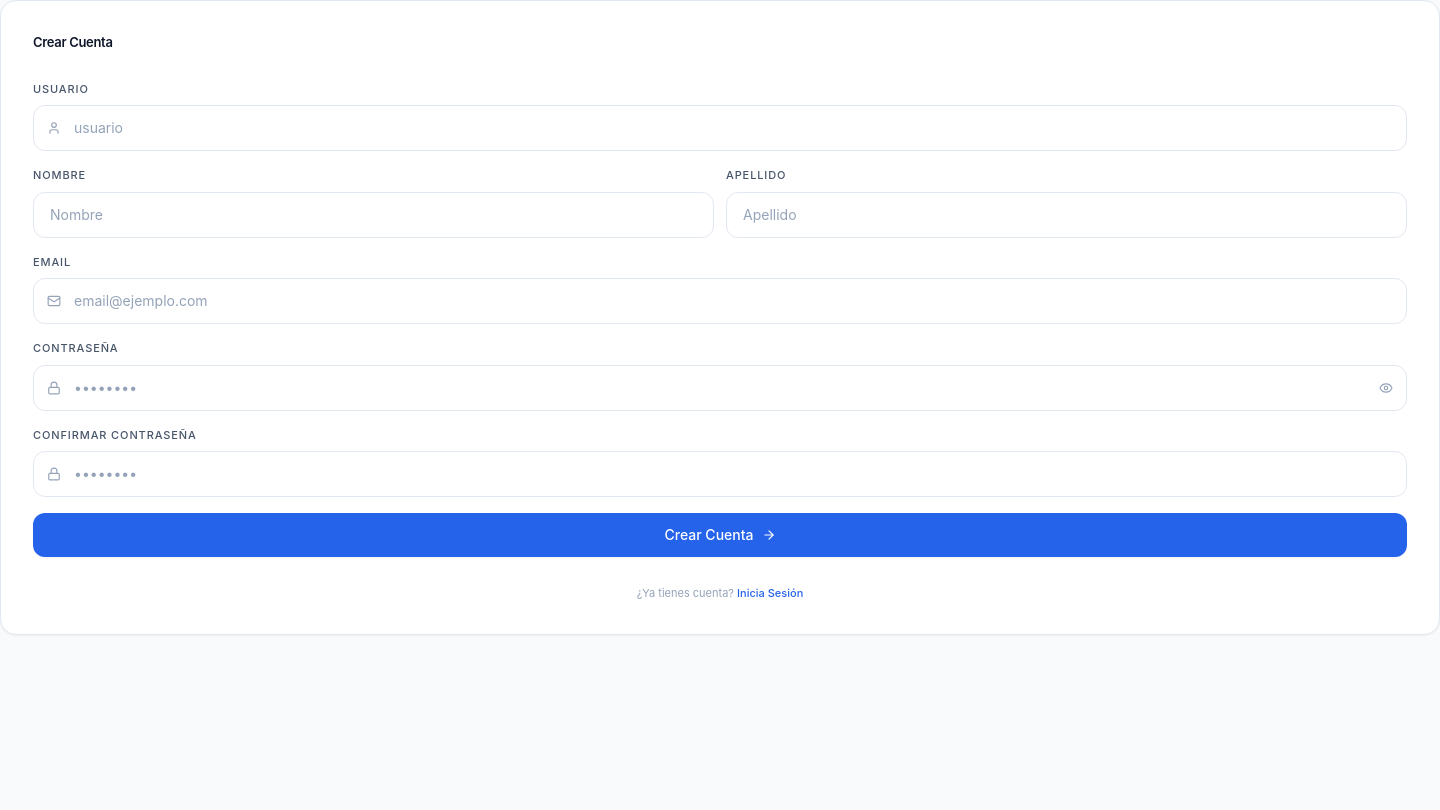
Test case: Register — limpiar Usuario tras intento fallido (fix 807b83c / QA Exp.3) › vacía el campo Usuario y conserva el resto cuando el registro falla
The width and height of the screenshot is (1440, 810).
Type "usuarioduplicado" into the field labelled "Usuario" at (720, 128), box [33,105,1407,151]
Type "Juan" into the field with placeholder "Nombre" at (374, 214), box [33,192,714,238]
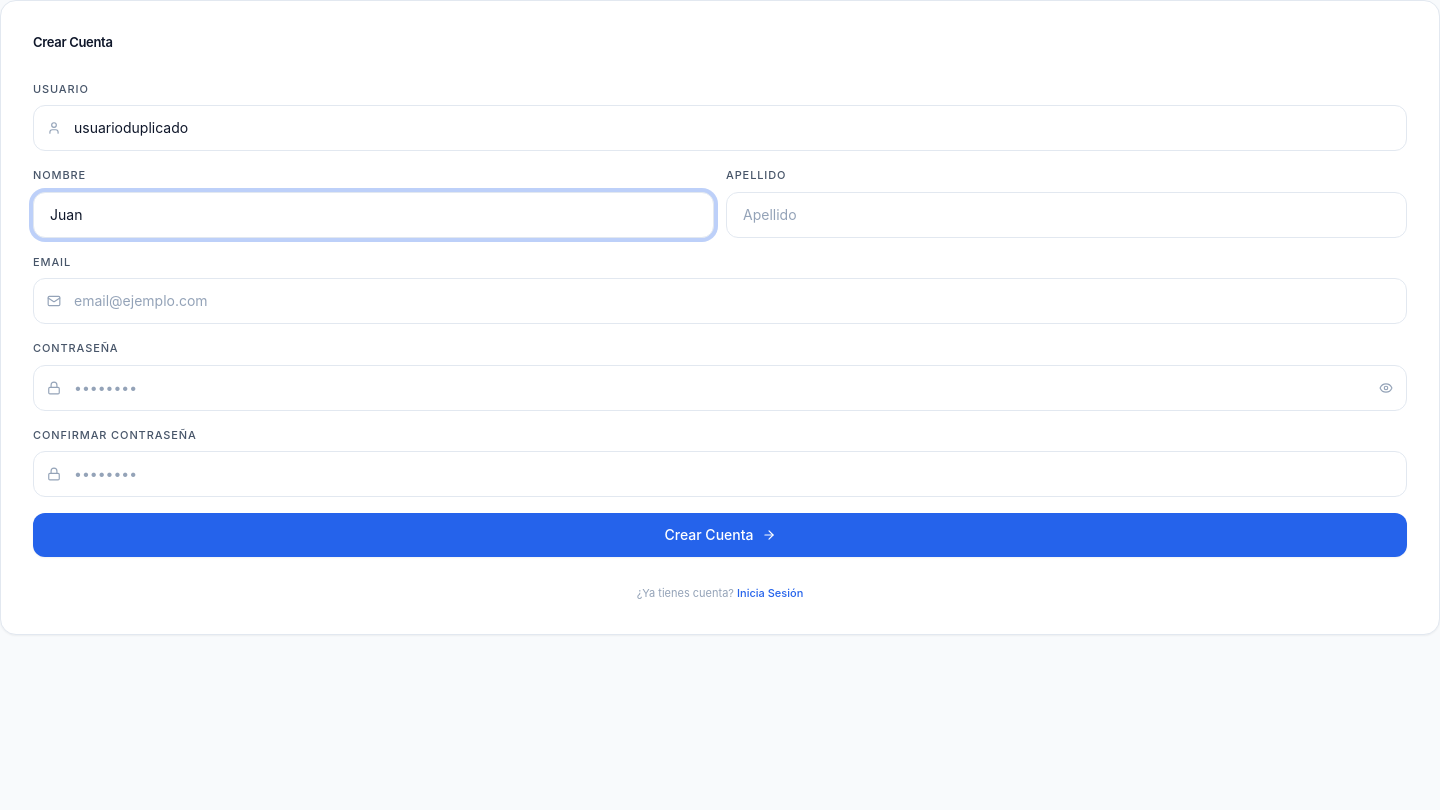
Type "Perez" into the field with placeholder "Apellido" at (1066, 214), box [726,192,1407,238]
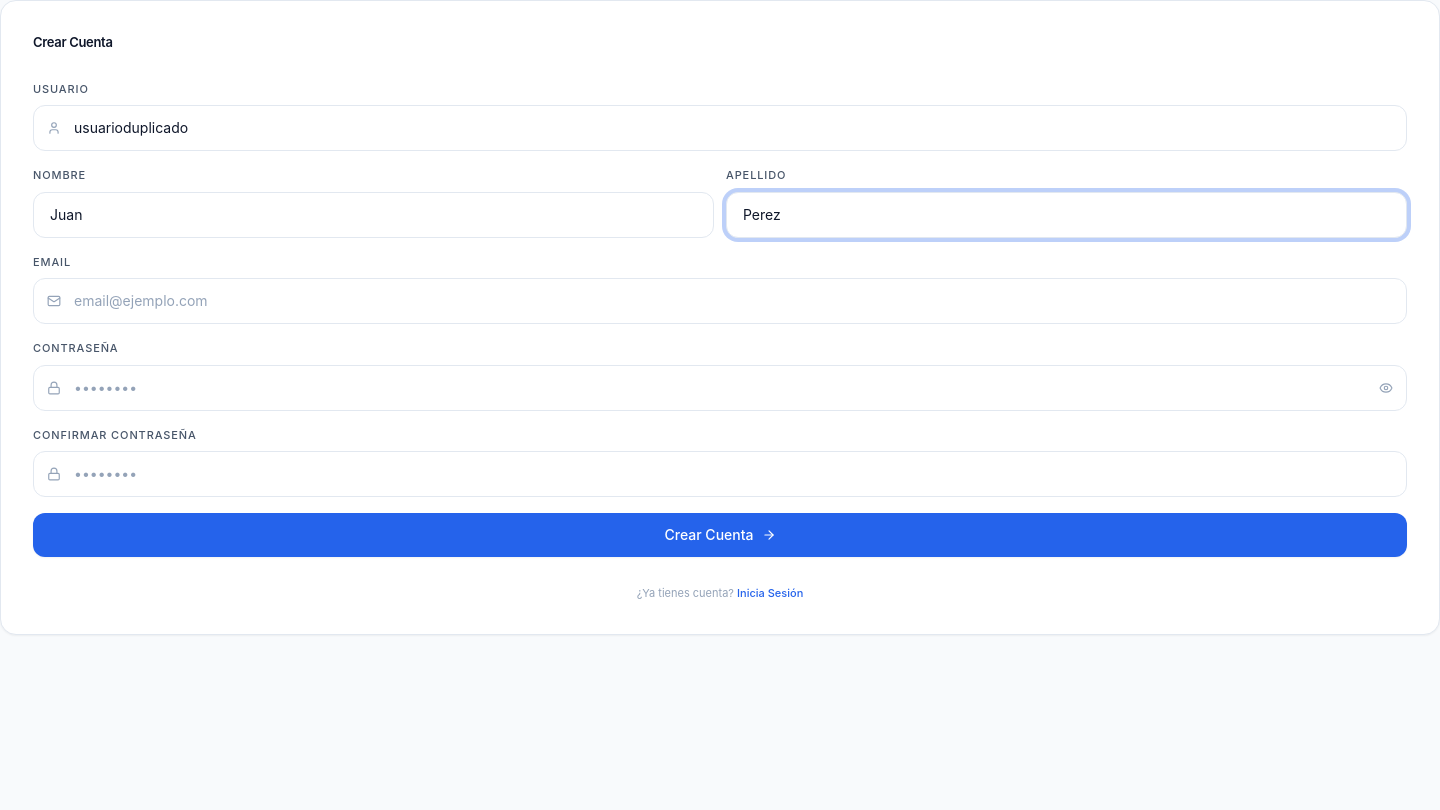
Type "dup@qa.cl" into the field labelled "Email" at (720, 301), box [33,278,1407,324]
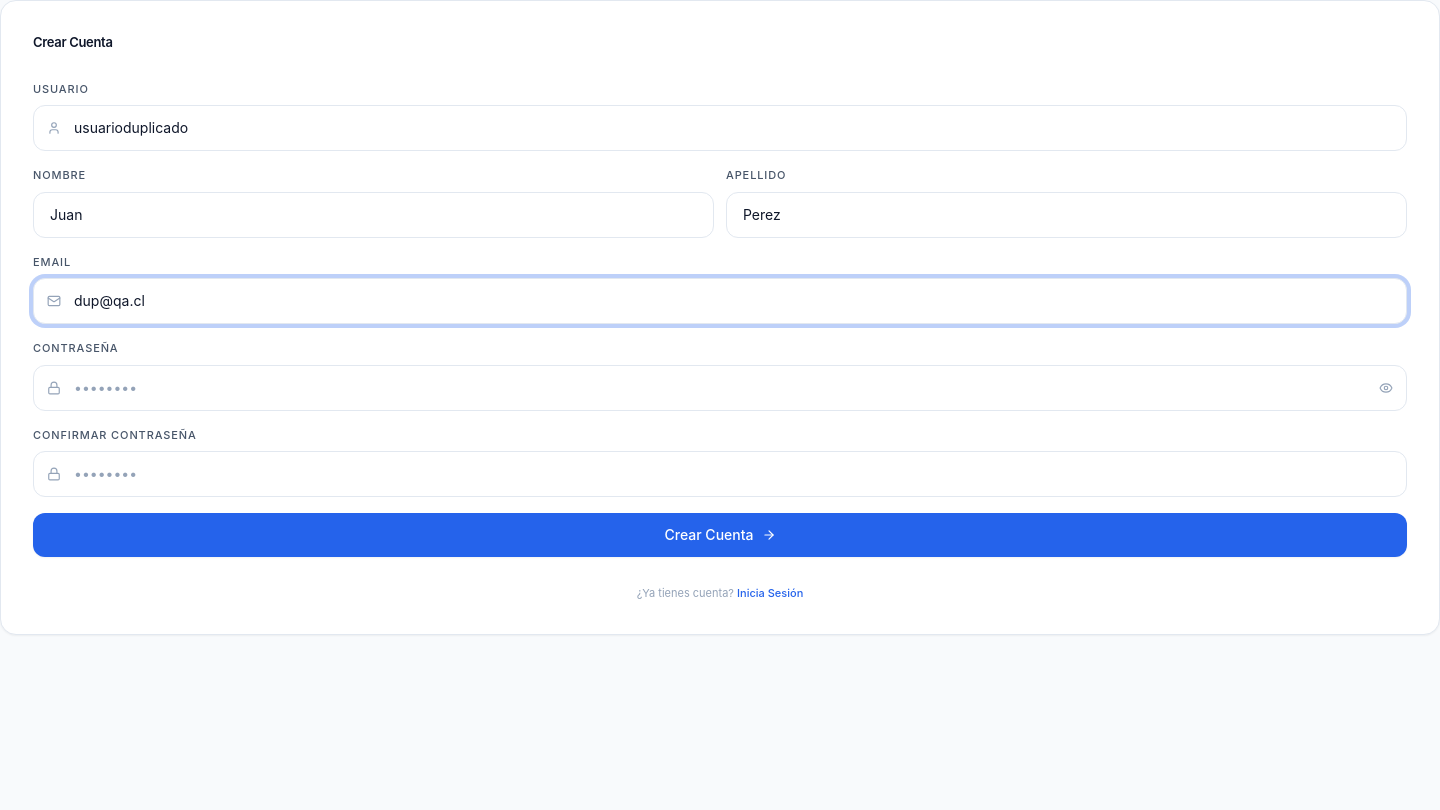
Type "Passw0rd" into the password field labelled "Contraseña" at (720, 388), box [33,364,1407,410]
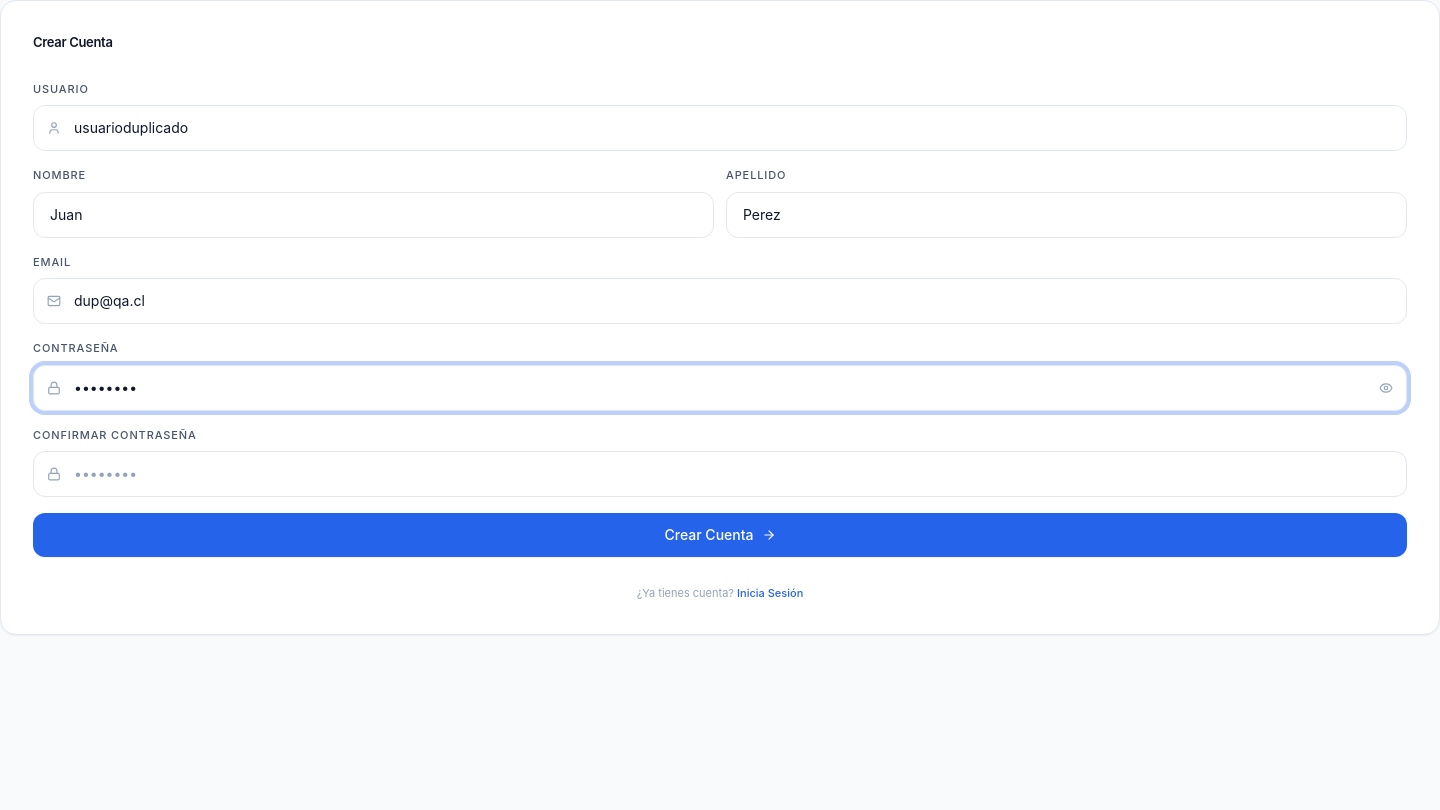
Type "Passw0rd" into the password field labelled "Confirmar Contraseña" at (720, 474), box [33,451,1407,497]
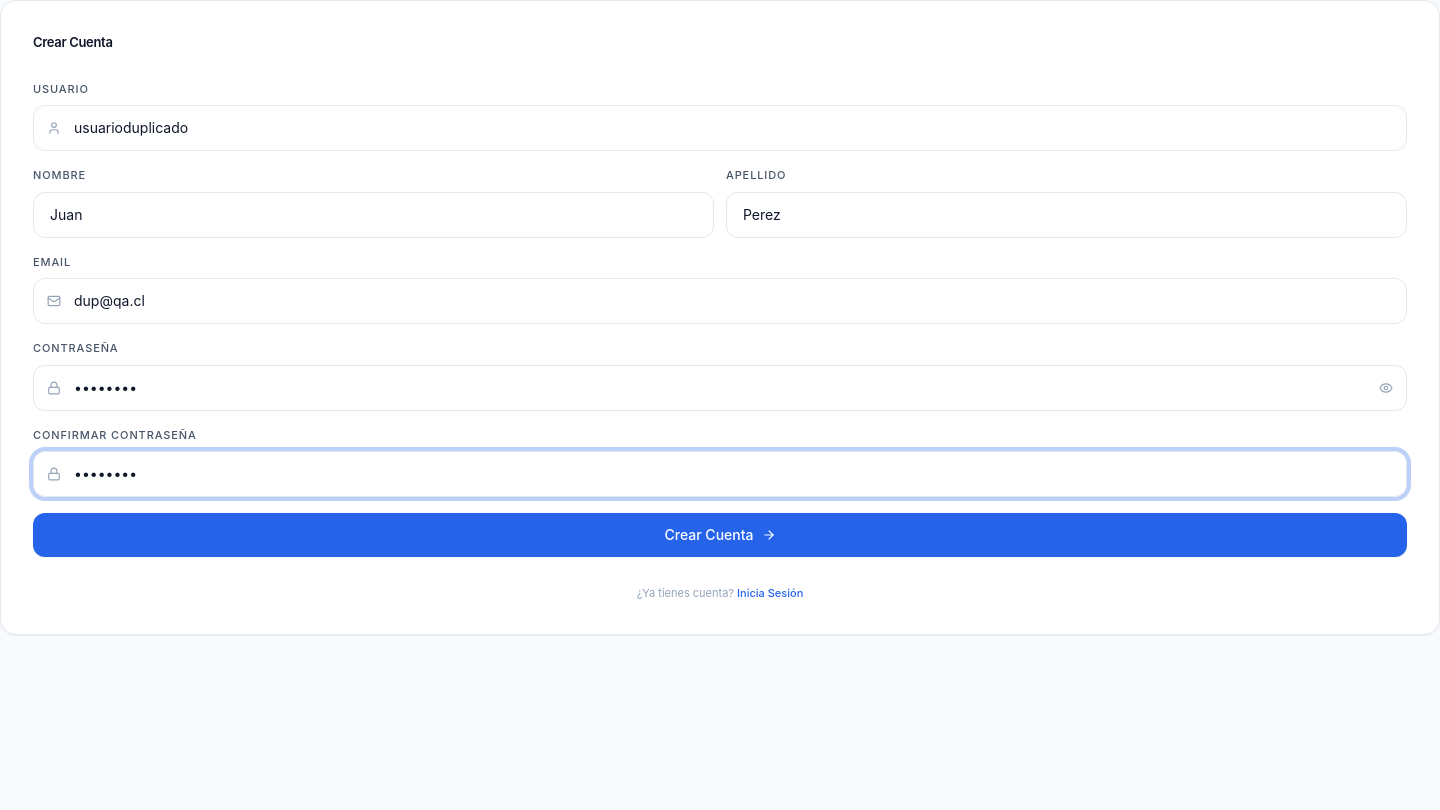
Click the button "Crear Cuenta" at (720, 535), box [33,513,1407,557]
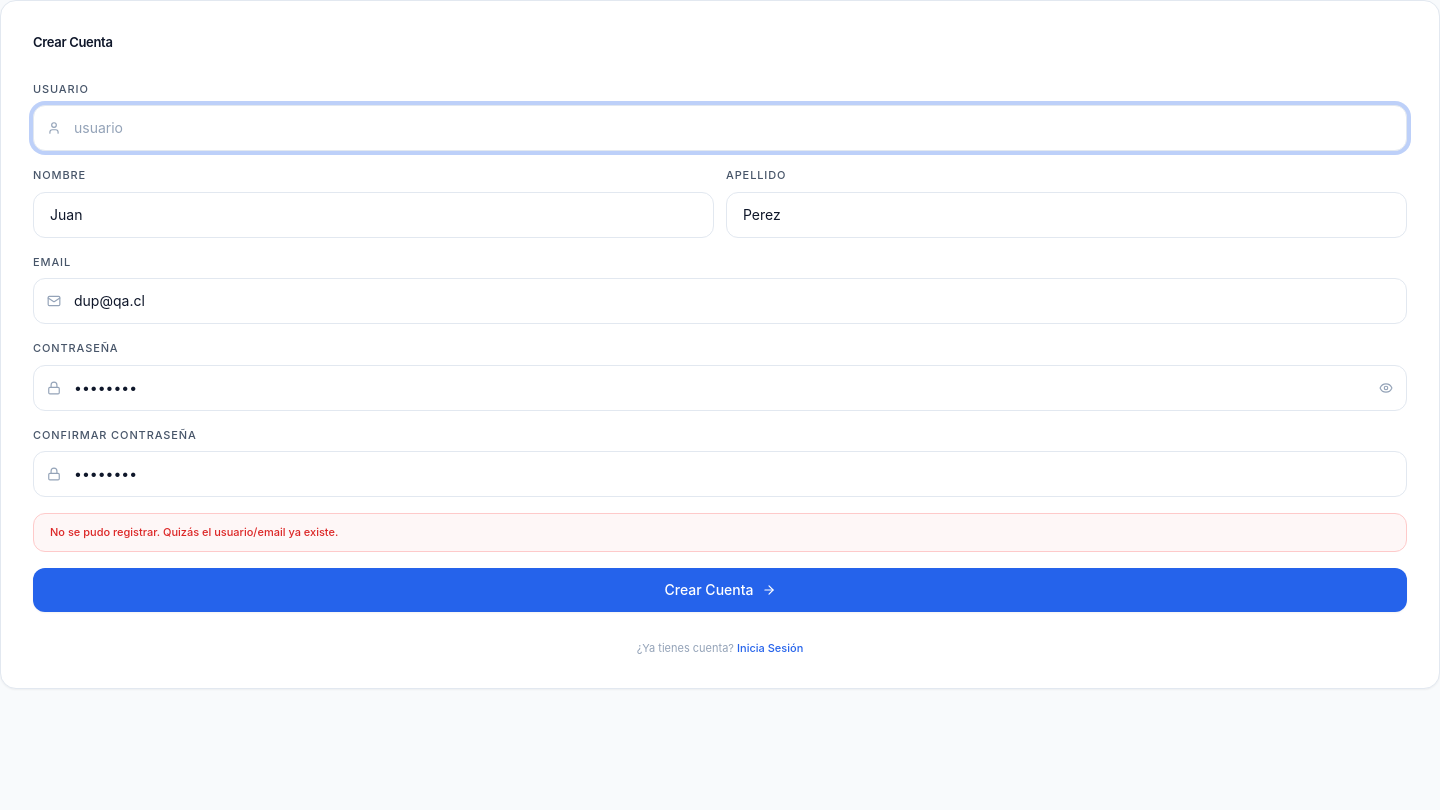
Result: the text "No se pudo registrar. Quizás el usuario/email ya existe." is shown at [33,513,1407,552]
